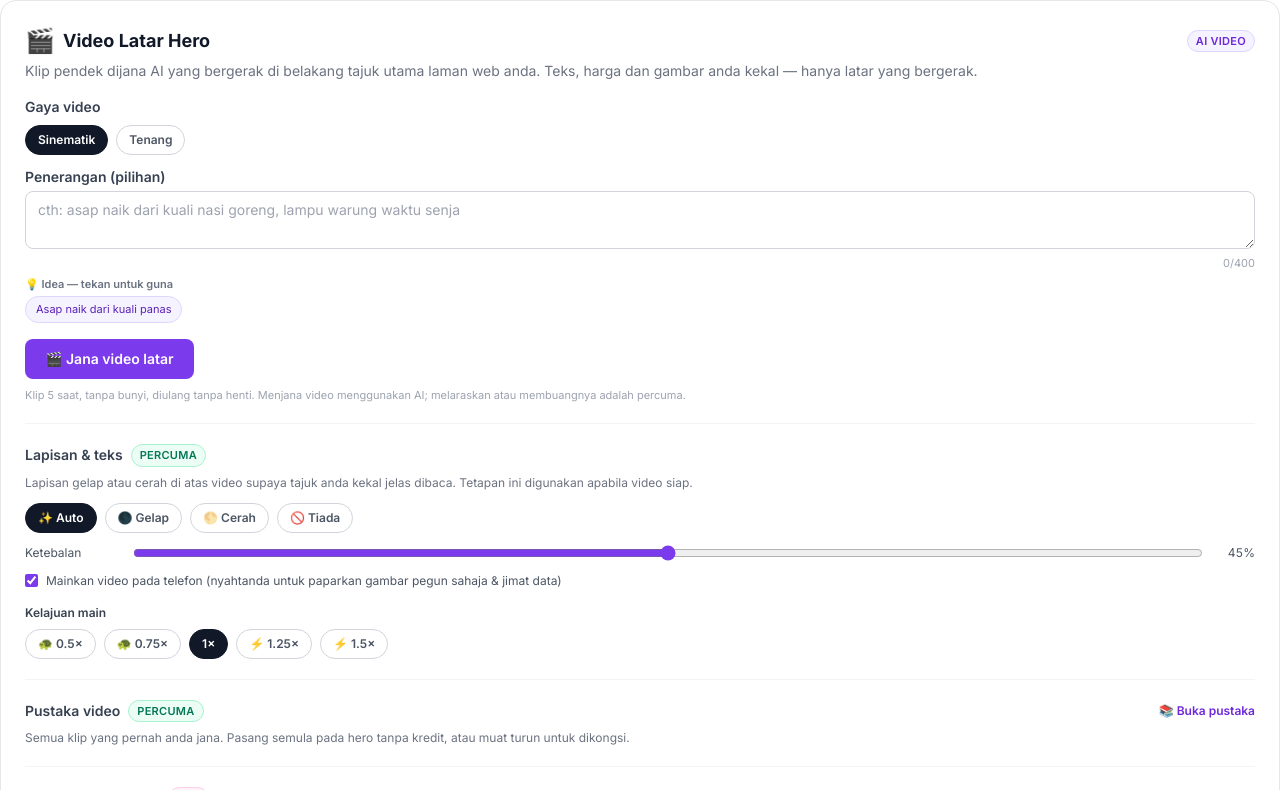
Scenario: HeroVideoPanel › fills the prompt from a tapped idea
The image size is (1280, 790).
Click the button with test id "video-idea-food-wok": [104, 309] box top-left (25, 296), bottom-right (182, 322)
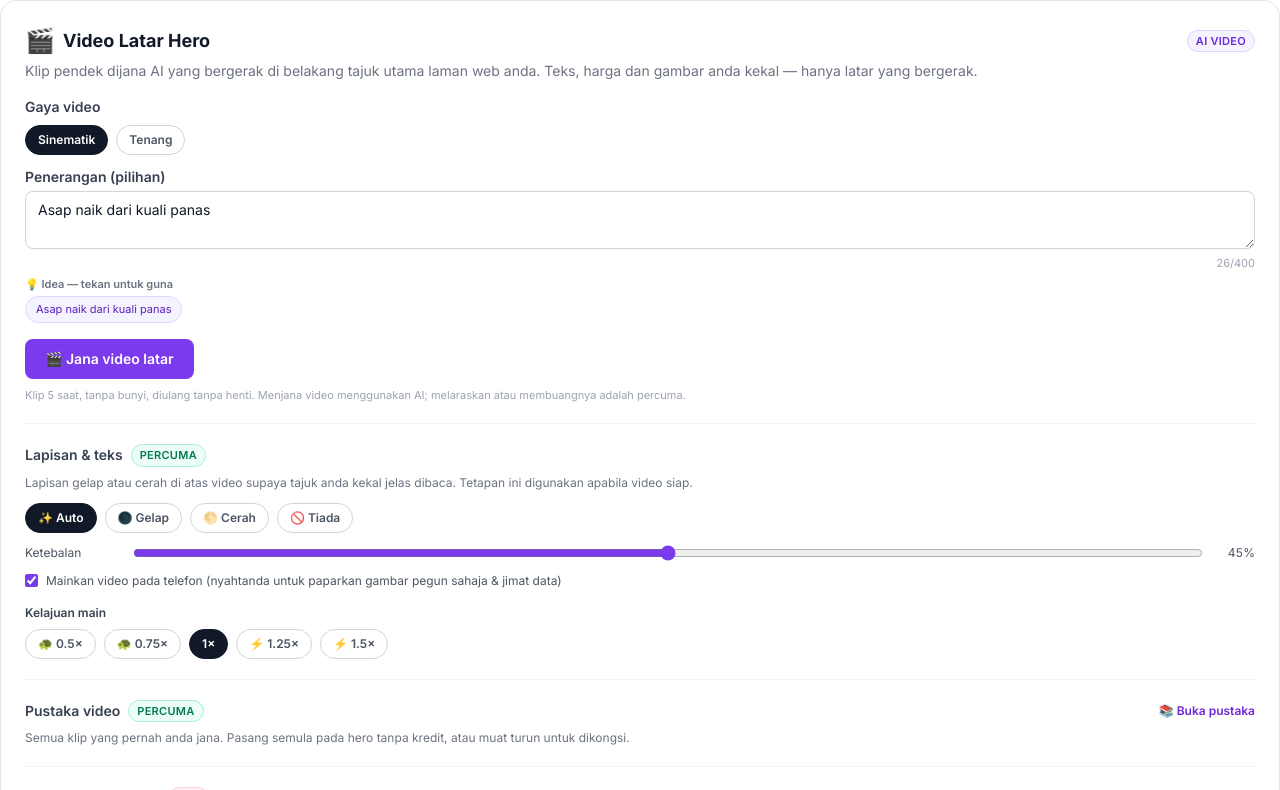
Now the text box with id "hero-video-prompt-ws-1" holds "Asap naik dari kuali panas", box top-left (25, 191), bottom-right (1255, 249)
